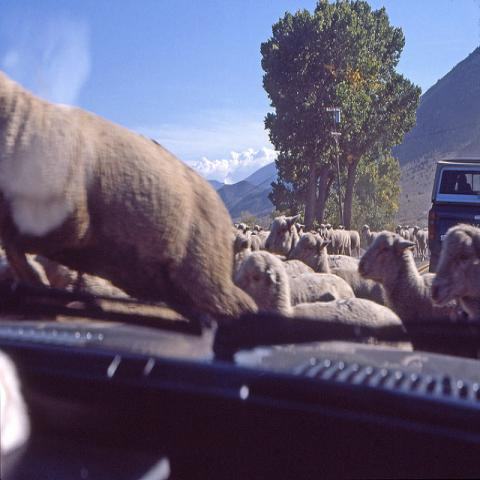truck: (430, 156, 480, 276)
